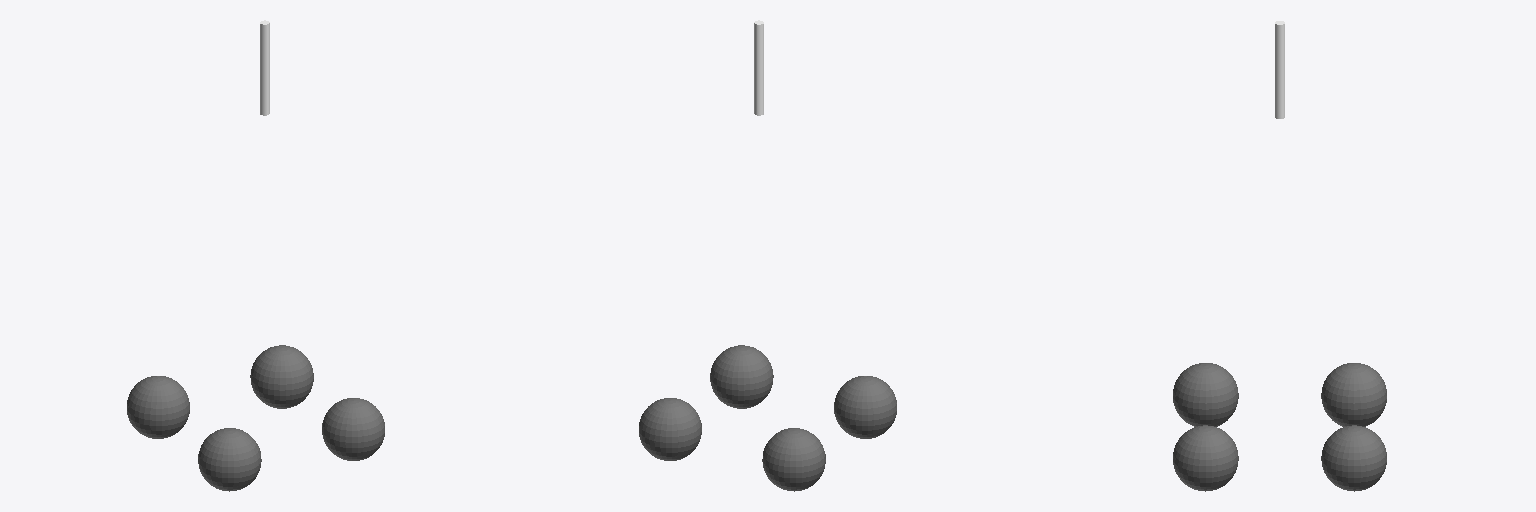
--- What the picture shows (computed from the rendered views, not written in the file) ---
3 views of the same robot in one strip: view 1: azimuth 30°, elevation 25°; view 2: azimuth 150°, elevation 25°; view 3: azimuth 270°, elevation 25° (orthographic).
Robot: summit_xl_apc — 25 links, 24 joints (7 revolute, 8 continuous, 1 prismatic, 8 fixed); root link base_footprint_sim; default pose: all joints at 0.
Links seen in each view (by area): view 1: front_left_wheel, back_right_wheel, back_left_wheel, front_right_wheel, vaccum_pipe_link; view 2: front_right_wheel, back_left_wheel, back_right_wheel, front_left_wheel, vaccum_pipe_link; view 3: front_right_wheel, front_left_wheel, back_left_wheel, back_right_wheel, vaccum_pipe_link.
Boxes of the visible links, x1=… form: front_left_wheel: x1=250, y1=345, x2=313, y2=408; back_right_wheel: x1=198, y1=428, x2=261, y2=491; back_left_wheel: x1=127, y1=376, x2=189, y2=438; front_right_wheel: x1=322, y1=398, x2=384, y2=460; vaccum_pipe_link: x1=260, y1=20, x2=269, y2=115; front_right_wheel: x1=710, y1=345, x2=773, y2=408; back_left_wheel: x1=762, y1=428, x2=825, y2=491; back_right_wheel: x1=834, y1=376, x2=896, y2=438; front_left_wheel: x1=639, y1=398, x2=701, y2=460; vaccum_pipe_link: x1=754, y1=20, x2=763, y2=115; front_right_wheel: x1=1173, y1=425, x2=1238, y2=491; front_left_wheel: x1=1321, y1=425, x2=1386, y2=491; back_left_wheel: x1=1321, y1=363, x2=1386, y2=426; back_right_wheel: x1=1173, y1=363, x2=1238, y2=426; vaccum_pipe_link: x1=1275, y1=21, x2=1284, y2=118.
Size in the robot's own frame: 0.824 by 0.824 by 1.86 metres.
0 mesh visuals loaded from 11 distinct referenced files (none loaded); not drawn: 11 (reference not matched to a file when rendering).

robot.urdf — summit_xl_apc:
<?xml version="1.0" ?>
<!-- =================================================================================== -->
<!-- |    This document was autogenerated by xacro from x_wam.urdf.xacro               | -->
<!-- |    EDITING THIS FILE BY HAND IS NOT RECOMMENDED                                 | -->
<!-- =================================================================================== -->
<robot name="summit_xl_apc" xmlns:xacro="http://www.ros.org/wiki/xacro">
  <!-- Import all Gazebo-customization elements, including Gazebo colors -->
  <gazebo>
    <plugin filename="libgazebo_ros_control.so" name="ros_control">
      <robotNamespace>/summit_xl_apc</robotNamespace>
      <controlPeriod>0.001</controlPeriod>
      <robotSimType>gazebo_ros_control/DefaultRobotHWSim</robotSimType>
    </plugin>
  </gazebo>
  <gazebo reference="base_footprint_sim">
    <material>Gazebo/Green</material>
  </gazebo>
  <gazebo reference="base_link">
    <material>Gazebo/Red</material>
    <gravity>true</gravity>
  </gazebo>
  <gazebo reference="front_right_steer_link">
    <material>Gazebo/Grey</material>
    <gravity>true</gravity>
  </gazebo>
  <gazebo reference="front_right_wheel">
    <mu1 value="4.0"/>
    <!-- 2.0 100.0 -->
    <mu2 value="1.0"/>
    <!-- 0.5 100.0 -->
    <fdir1 value="1 0 0"/>
    <material>Gazebo/Grey</material>
    <gravity>true</gravity>
  </gazebo>
  <gazebo reference="front_left_steer_link">
    <material>Gazebo/Grey</material>
    <gravity>true</gravity>
  </gazebo>
  <gazebo reference="front_left_wheel">
    <mu1 value="4.0"/>
    <!-- 2.0 -->
    <mu2 value="1.0"/>
    <!-- 0.5 -->
    <fdir1 value="1 0 0"/>
    <material>Gazebo/Grey</material>
    <gravity>true</gravity>
  </gazebo>
  <gazebo reference="back_left_steer_link">
    <material>Gazebo/Grey</material>
    <gravity>true</gravity>
  </gazebo>
  <gazebo reference="back_left_wheel">
    <mu1 value="4.0"/>
    <mu2 value="1.0"/>
    <fdir1 value="1 0 0"/>
    <material>Gazebo/Grey</material>
    <gravity>true</gravity>
  </gazebo>
  <gazebo reference="back_right_steer_link">
    <material>Gazebo/Grey</material>
    <gravity>true</gravity>
  </gazebo>
  <gazebo reference="back_right_wheel">
    <mu1 value="4.0"/>
    <mu2 value="1.0"/>
    <fdir1 value="1 0 0"/>
    <material>Gazebo/Grey</material>
    <gravity>true</gravity>
  </gazebo>
  <gazebo reference="hokuyo_laser_box_link">
    <material>Gazebo/Grey</material>
    <gravity>true</gravity>
  </gazebo>
  <gazebo reference="rover_link">
    <material>Gazebo/Red</material>
    <gravity>true</gravity>
  </gazebo>
  <gazebo reference="x_camera_link">
    <mu1>0.2</mu1>
    <mu2>0.2</mu2>
    <material>Gazebo/Red</material>
    <sensor name="camera1" type="camera">
      <update_rate>30.0</update_rate>
      <camera name="head">
        <horizontal_fov>1.3962634</horizontal_fov>
        <image>
          <width>800</width>
          <height>800</height>
          <format>R8G8B8</format>
        </image>
        <clip>
          <near>0.02</near>
          <far>300</far>
        </clip>
        <noise>
          <type>gaussian</type>
          <mean>0.0</mean>
          <stddev>0.007</stddev>
        </noise>
      </camera>
      <plugin filename="libgazebo_ros_camera.so" name="camera_controller">
        <alwaysOn>true</alwaysOn>
        <updateRate>0.0</updateRate>
        <cameraName>/summit_xl_apc/camera1</cameraName>
        <imageTopicName>image_raw</imageTopicName>
        <cameraInfoTopicName>camera_info</cameraInfoTopicName>
        <frameName>x_camera_link</frameName>
        <hackBaseline>0.07</hackBaseline>
        <distortionK1>0.0</distortionK1>
        <distortionK2>0.0</distortionK2>
        <distortionK3>0.0</distortionK3>
        <distortionT1>0.0</distortionT1>
        <distortionT2>0.0</distortionT2>
      </plugin>
    </sensor>
  </gazebo>
  <gazebo reference="hokuyo_laser_link">
    <sensor name="head_hokuyo_sensor" type="ray">
      <pose>0 0 0 0 0 0</pose>
      <visualize>false</visualize>
      <update_rate>30</update_rate>
      <ray>
        <scan>
          <horizontal>
            <samples>720</samples>
            <resolution>1</resolution>
            <min_angle>-1.570796</min_angle>
            <max_angle>1.570796</max_angle>
          </horizontal>
        </scan>
        <range>
          <min>0.10</min>
          <max>30.0</max>
          <resolution>0.01</resolution>
        </range>
        <noise>
          <type>gaussian</type>
          <mean>0.0</mean>
          <stddev>0.01</stddev>
        </noise>
      </ray>
      <plugin filename="libgazebo_ros_laser.so" name="gazebo_ros_head_hokuyo_controller">
        <topicName>/scan</topicName>
        <frameName>hokuyo_laser_link</frameName>
      </plugin>
    </sensor>
  </gazebo>
  <gazebo>
    <plugin filename="libgazebo_ros_imu.so" name="ros_imu">
      <robotNamespace>/summit_xl_apc</robotNamespace>
      <topicName>imu_data</topicName>
      <bodyName>imu_link </bodyName>
      <serviceName>/imu_service</serviceName>
      <gaussianNoise>0.001</gaussianNoise>
    </plugin>
  </gazebo>
  <gazebo reference="wam_link1">
    <material>Gazebo/White</material>
    <!-- selfCollide>true</selfCollide -->
    <gravity>true</gravity>
  </gazebo>
  <gazebo reference="wam_link2">
    <material>Gazebo/Grey</material>
    <!-- selfCollide>true</selfCollide -->
    <gravity>true</gravity>
  </gazebo>
  <gazebo reference="wam_link3">
    <material>Gazebo/Grey</material>
    <!-- selfCollide>true</selfCollide -->
    <gravity>true</gravity>
  </gazebo>
  <gazebo reference="wam_link4">
    <material>Gazebo/Grey</material>
    <!-- selfCollide>true</selfCollide -->
    <gravity>true</gravity>
  </gazebo>
  <gazebo reference="wam_link5">
    <material>Gazebo/Grey</material>
    <!-- selfCollide>true</selfCollide -->
    <gravity>true</gravity>
  </gazebo>
  <gazebo reference="wam_link6">
    <material>Gazebo/Grey</material>
    <!-- selfCollide>true</selfCollide -->
    <gravity>true</gravity>
  </gazebo>
  <gazebo reference="wam_link7">
    <material>Gazebo/Grey</material>
    <!-- selfCollide>true</selfCollide -->
    <gravity>true</gravity>
  </gazebo>
  <!-- Constants for robot dimensions -->
  <!-- xacro:property name="wheel_offset_x" value="0.261" / -->
  <!-- x,y,z in base_footprint CS -->
  <!-- x,y,z in base_footprint CS -->
  <!-- WAM Parameters -->
  <!-- Used for fixing robot to Gazebo 'base_link' -->
  <!-- link name="world"/>

  <joint name="fwf" type="planar">
    <parent link="world"/>
    <child link="base_footprint"/>
  </joint -->
  <!-- BASE FOOTPRINT -->
  <!-- base_footprint is a fictitious link(frame) that is on the ground right below base_link origin,
             navigation stack depends on this frame -->
  <link name="base_footprint_sim">
    <!-- inertial>
          <mass value="0.0001" />
          <origin xyz="0 0 0" />
          <inertia ixx="0.0001" ixy="0.0" ixz="0.0"
                         iyy="0.0001" iyz="0.0" 
                         izz="0.0001" />
      </inertial -->
    <visual>
      <origin rpy="0 0 0" xyz="0 0 0"/>
      <geometry>
        <box size="0.001 0.001 0.001"/>
      </geometry>
    </visual>
    <collision>
      <origin rpy="0 0 0" xyz="0 0 0"/>
      <geometry>
        <box size="0.001 0.001 0.001"/>
      </geometry>
    </collision>
  </link>
  <joint name="base_footprint_joint" type="fixed">
    <!--NB: While you would think this would make it go up, it is oddly reversed.
      This moves the joint to 0,0,0 where we want it for rviz, etc. -->
    <!-- origin xyz="0 0 0.075" rpy="0 0 0" / -->
    <origin rpy="0 0 0" xyz="0 0 0.150"/>
    <parent link="base_footprint_sim"/>
    <child link="base_link"/>
  </joint>
  <!-- BASE_LINK (RED) -->
  <link name="base_link">
    <!-- inertial>
      <mass value="20.0" />
      <origin xyz="0 0 0" />
      <inertia  ixx="0.2185" ixy="0.0"  ixz="-0.001"  iyy="0.33677"  iyz="0.0"  izz="0.20511" />
    </inertial -->
    <inertial>
      <mass value="40.0"/>
      <origin xyz="0 0 0"/>
      <inertia ixx="1.0" ixy="0.0" ixz="0.0" iyy="1.0" iyz="0.0" izz="1.0"/>
    </inertial>
    <visual>
      <origin rpy="0 0 0" xyz="0 0 0"/>
      <geometry>
        <mesh filename="package://summit_xl_description/meshes/x_wam/chassis_xwam_down.dae"/>
      </geometry>
    </visual>
    <collision>
      <origin rpy="0 0 0 " xyz="0 0 0"/>
      <geometry>
        <mesh filename="package://summit_xl_description/meshes/x_wam/chassis_xwam_down.dae"/>
      </geometry>
    </collision>
  </link>
  <!-- **************************** -->
  <!-- WHEEL 1                      -->
  <!-- FRONT RIGHT WHEEL - STEERING -->
  <!-- **************************** -->
  <link name="front_right_steer_link">
    <inertial>
      <mass value="0.1"/>
      <origin xyz="0 0 0"/>
      <inertia ixx="0.01" ixy="0.0" ixz="0.0" iyy="0.01" iyz="0.0" izz="0.01"/>
    </inertial>
    <visual>
      <!-- visual origin is defined w.r.t. link local coordinate system -->
      <origin rpy="0 0 0" xyz="0 0 0"/>
      <geometry>
        <cylinder length="0.025" radius="0.015"/>
      </geometry>
    </visual>
    <collision>
      <origin rpy="0 0 0" xyz="0 0 0"/>
      <geometry>
        <cylinder length="0.025" radius="0.015"/>
      </geometry>
    </collision>
  </link>
  <joint name="joint_front_right_steer" type="continuous">
    <!-- revolute -->
    <parent link="base_link"/>
    <child link="front_right_steer_link"/>
    <origin rpy="0 0 0" xyz="0.285 -0.285 -0.069"/>
    <axis rpy="0 0 0" xyz="0 0 1"/>
    <limit effort="5.0" velocity="5.0"/>
    <!-- lower="-1.570796327" upper="1.570796327"/ -->
    <joint_properties damping="2.0" friction="{steer_joint_friction}"/>
  </joint>
  <transmission name="joint_frw_steer_trans">
    <type>transmission_interface/SimpleTransmission</type>
    <joint name="joint_front_right_steer"/>
    <actuator name="joint_frw_steer_motor">
      <hardwareInterface>EffortJointInterface</hardwareInterface>
      <mechanicalReduction>100.0</mechanicalReduction>
      <motorTorqueConstant>1</motorTorqueConstant>
    </actuator>
  </transmission>
  <!-- **************************** -->
  <!-- WHEEL 1                      -->
  <!-- FRONT RIGHT WHEEL - TRACTION -->
  <!-- **************************** -->
  <link name="front_right_wheel">
    <inertial>
      <mass value="1.250"/>
      <origin xyz="0 0 0"/>
      <inertia ixx="0.0109375" ixy="0.0" ixz="0.0" iyy="0.021125" iyz="0.0" izz="0.0109375"/>
    </inertial>
    <visual>
      <origin rpy="0 0 0" xyz="0 0 0"/>
      <geometry>
        <!-- mesh filename="package://summit_xl_description/meshes/summit_xl_wheel.dae" scale="1.0 1.0 1.0"/ -->
        <sphere radius="0.127"/>
      </geometry>
      <material name="grey">
        <color rgba="0.5 0.5 0.5 1"/>
      </material>
    </visual>
    <collision>
      <origin rpy="0 0 0" xyz="0 0 0"/>
      <geometry>
        <!-- mesh filename="package://summit_xl_description/meshes/summit_xl_wheel.dae" scale="1.0 1.0 1.0"/ -->
        <sphere radius="0.127"/>
      </geometry>
    </collision>
  </link>
  <joint name="joint_front_right_wheel" type="continuous">
    <parent link="front_right_steer_link"/>
    <child link="front_right_wheel"/>
    <origin rpy="0 0 0" xyz="0 0 0"/>
    <axis xyz="0 -1 0"/>
    <limit effort="100.0" velocity="0.1"/>
    <joint_properties damping="1.0" friction="{wheel_joint_friction}"/>
  </joint>
  <transmission name="joint_frw_trans">
    <type>transmission_interface/SimpleTransmission</type>
    <joint name="joint_front_right_wheel"/>
    <actuator name="joint_frw_motor">
      <hardwareInterface>EffortJointInterface</hardwareInterface>
      <mechanicalReduction>15.0</mechanicalReduction>
      <motorTorqueConstant>1</motorTorqueConstant>
    </actuator>
  </transmission>
  <!-- **************************** -->
  <!-- WHEEL 2                      -->
  <!-- FRONT LEFT WHEEL  - STEERING -->
  <!-- **************************** -->
  <link name="front_left_steer_link">
    <inertial>
      <mass value="0.1"/>
      <origin xyz="0 0 0"/>
      <inertia ixx="0.01" ixy="0.0" ixz="0.0" iyy="0.01" iyz="0.0" izz="0.01"/>
    </inertial>
    <visual>
      <!-- visual origin is defined w.r.t. link local coordinate system -->
      <origin rpy="0 0 0" xyz="0 0 0"/>
      <geometry>
        <cylinder length="0.025" radius="0.015"/>
      </geometry>
    </visual>
    <collision>
      <origin rpy="0 0 0" xyz="0 0 0"/>
      <geometry>
        <cylinder length="0.025" radius="0.015"/>
      </geometry>
    </collision>
  </link>
  <joint name="joint_front_left_steer" type="continuous">
    <parent link="base_link"/>
    <child link="front_left_steer_link"/>
    <origin rpy="0 0 0" xyz="0.285 0.285 -0.069"/>
    <axis rpy="0 0 0" xyz="0 0 1"/>
    <limit effort="5.0" velocity="5.0"/>
    <!-- lower="-1.570796327" upper="1.570796327"/ -->
    <joint_properties damping="2.0" friction="{steer_joint_friction}"/>
  </joint>
  <transmission name="joint_flw_steer_trans">
    <type>transmission_interface/SimpleTransmission</type>
    <joint name="joint_front_left_steer"/>
    <actuator name="joint_flw_steer_motor">
      <hardwareInterface>EffortJointInterface</hardwareInterface>
      <mechanicalReduction>100.0</mechanicalReduction>
      <motorTorqueConstant>1</motorTorqueConstant>
    </actuator>
  </transmission>
  <!-- **************************** -->
  <!-- WHEEL 2                      -->
  <!-- FRONT LEFT WHEEL  - TRACTION -->
  <!-- **************************** -->
  <link name="front_left_wheel">
    <inertial>
      <mass value="1.250"/>
      <origin xyz="0 0 0"/>
      <inertia ixx="0.0109375" ixy="0.0" ixz="0.0" iyy="0.021125" iyz="0.0" izz="0.0109375"/>
    </inertial>
    <visual>
      <origin rpy="0 0 0" xyz="0 0 0"/>
      <geometry>
        <!-- mesh filename="package://summit_xl_description/meshes/summit_xl_wheel.dae" scale="1.0 1.0 1.0"/ -->
        <sphere radius="0.127"/>
      </geometry>
      <material name="grey">
        <color rgba="0.5 0.5 0.5 1"/>
      </material>
    </visual>
    <collision>
      <origin rpy="0 0 0" xyz="0 0 0"/>
      <geometry>
        <!-- mesh filename="package://summit_xl_description/meshes/summit_xl_wheel.dae" scale="1.0 1.0 1.0"/ -->
        <sphere radius="0.127"/>
      </geometry>
    </collision>
  </link>
  <joint name="joint_front_left_wheel" type="continuous">
    <parent link="front_left_steer_link"/>
    <child link="front_left_wheel"/>
    <origin rpy="0 0 0" xyz="0 0 0"/>
    <axis rpy="0 0 0" xyz="0 1 0"/>
    <limit effort="100.0" velocity="0.1"/>
    <joint_properties damping="1.0" friction="{wheel_joint_friction}"/>
  </joint>
  <transmission name="joint_flw_trans">
    <type>transmission_interface/SimpleTransmission</type>
    <joint name="joint_front_left_wheel"/>
    <actuator name="joint_flw_motor">
      <hardwareInterface>EffortJointInterface</hardwareInterface>
      <mechanicalReduction>15.0</mechanicalReduction>
      <motorTorqueConstant>1</motorTorqueConstant>
    </actuator>
  </transmission>
  <!-- **************************** -->
  <!-- WHEEL 3                      -->
  <!-- BACK LEFT WHEEL  - STEERING -->
  <!-- **************************** -->
  <link name="back_left_steer_link">
    <inertial>
      <mass value="0.1"/>
      <origin xyz="0 0 0"/>
      <inertia ixx="0.01" ixy="0.0" ixz="0.0" iyy="0.01" iyz="0.0" izz="0.01"/>
    </inertial>
    <visual>
      <!-- visual origin is defined w.r.t. link local coordinate system -->
      <origin rpy="0 0 0" xyz="0 0 0"/>
      <geometry>
        <cylinder length="0.025" radius="0.015"/>
      </geometry>
    </visual>
    <collision>
      <origin rpy="0 0 0" xyz="0 0 0"/>
      <geometry>
        <cylinder length="0.025" radius="0.015"/>
      </geometry>
    </collision>
  </link>
  <joint name="joint_back_left_steer" type="continuous">
    <parent link="base_link"/>
    <child link="back_left_steer_link"/>
    <origin rpy="0 0 0" xyz="-0.285 0.285 -0.069"/>
    <axis rpy="0 0 0" xyz="0 0 1"/>
    <limit effort="5.0" velocity="5.0"/>
    <!-- lower="-1.570796327" upper="1.570796327"/ -->
    <joint_properties damping="2.0" friction="{steer_joint_friction}"/>
  </joint>
  <transmission name="joint_blw_steer_trans">
    <type>transmission_interface/SimpleTransmission</type>
    <joint name="joint_back_left_steer"/>
    <actuator name="joint_blw_steer_motor">
      <hardwareInterface>EffortJointInterface</hardwareInterface>
      <mechanicalReduction>100.0</mechanicalReduction>
      <motorTorqueConstant>1</motorTorqueConstant>
    </actuator>
  </transmission>
  <!-- **************************** -->
  <!-- WHEEL 3                      -->
  <!-- BACK LEFT WHEEL  - TRACTION  -->
  <!-- **************************** -->
  <link name="back_left_wheel">
    <inertial>
      <mass value="1.250"/>
      <origin xyz="0 0 0"/>
      <inertia ixx="0.0109375" ixy="0.0" ixz="0.0" iyy="0.021125" iyz="0.0" izz="0.0109375"/>
    </inertial>
    <visual>
      <origin rpy="0 0 0" xyz="0 0 0"/>
      <geometry>
        <sphere radius="0.127"/>
        <!-- mesh filename="package://summit_xl_description/meshes/summit_xl_wheel.dae" scale="1.0 1.0 1.0"/ -->
      </geometry>
      <material name="grey">
        <color rgba="0.5 0.5 0.5 1"/>
      </material>
    </visual>
    <collision>
      <origin rpy="0 0 0" xyz="0 0 0"/>
      <geometry>
        <sphere radius="0.127"/>
        <!-- mesh filename="package://summit_xl_description/meshes/summit_xl_wheel.dae" scale="1.0 1.0 1.0"/ -->
      </geometry>
    </collision>
  </link>
  <joint name="joint_back_left_wheel" type="continuous">
    <parent link="back_left_steer_link"/>
    <child link="back_left_wheel"/>
    <origin rpy="0 0 0" xyz="0 0 0"/>
    <axis rpy="0 0 0" xyz="0 1 0"/>
    <limit effort="100.0" velocity="0.1"/>
    <joint_properties damping="1.0" friction="{wheel_joint_friction}"/>
  </joint>
  <transmission name="joint_blw_trans">
    <type>transmission_interface/SimpleTransmission</type>
    <joint name="joint_back_left_wheel"/>
    <actuator name="joint_blw_motor">
      <hardwareInterface>EffortJointInterface</hardwareInterface>
      <mechanicalReduction>15.0</mechanicalReduction>
      <motorTorqueConstant>1</motorTorqueConstant>
    </actuator>
  </transmission>
  <!-- **************************** -->
  <!-- WHEEL 4                      -->
  <!-- BACK RIGHT WHEEL  - STEERING -->
  <!-- **************************** -->
  <link name="back_right_steer_link">
    <inertial>
      <mass value="0.1"/>
      <origin xyz="0 0 0"/>
      <inertia ixx="0.01" ixy="0.0" ixz="0.0" iyy="0.01" iyz="0.0" izz="0.01"/>
    </inertial>
    <visual>
      <!-- visual origin is defined w.r.t. link local coordinate system -->
      <origin rpy="0 0 0" xyz="0 0 0"/>
      <geometry>
        <cylinder length="0.025" radius="0.015"/>
      </geometry>
    </visual>
    <collision>
      <origin rpy="0 0 0" xyz="0 0 0"/>
      <geometry>
        <cylinder length="0.025" radius="0.015"/>
      </geometry>
    </collision>
  </link>
  <joint name="joint_back_right_steer" type="continuous">
    <parent link="base_link"/>
    <child link="back_right_steer_link"/>
    <origin rpy="0 0 0" xyz="-0.285 -0.285 -0.069"/>
    <axis rpy="0 0 0" xyz="0 0 1"/>
    <limit effort="5.0" velocity="5.0"/>
    <!-- lower="-1.570796327" upper="1.570796327"/ -->
    <joint_properties damping="2.0" friction="{steer_joint_friction}"/>
  </joint>
  <transmission name="joint_brw_steer_trans">
    <type>transmission_interface/SimpleTransmission</type>
    <joint name="joint_back_right_steer"/>
    <actuator name="joint_brw_steer_motor">
      <hardwareInterface>EffortJointInterface</hardwareInterface>
      <mechanicalReduction>100.0</mechanicalReduction>
      <motorTorqueConstant>1</motorTorqueConstant>
    </actuator>
  </transmission>
  <!-- **************************** -->
  <!-- WHEEL 4                      -->
  <!-- BACK RIGHT WHEEL  - TRACTION -->
  <!-- **************************** -->
  <link name="back_right_wheel">
    <inertial>
      <mass value="1.250"/>
      <origin xyz="0 0 0"/>
      <inertia ixx="0.0109375" ixy="0.0" ixz="0.0" iyy="0.021125" iyz="0.0" izz="0.0109375"/>
    </inertial>
    <visual>
      <origin rpy="0 0 0" xyz="0 0 0"/>
      <geometry>
        <sphere radius="0.127"/>
        <!-- mesh filename="package://summit_xl_description/meshes/summit_xl_wheel.dae" scale="1.0 1.0 1.0"/ -->
      </geometry>
      <material name="grey">
        <color rgba="0.5 0.5 0.5 1"/>
      </material>
    </visual>
    <collision>
      <origin rpy="0 0 0" xyz="0 0 0"/>
      <geometry>
        <sphere radius="0.127"/>
        <!-- mesh filename="package://summit_xl_description/meshes/summit_xl_wheel.dae" scale="1.0 1.0 1.0"/ -->
      </geometry>
    </collision>
  </link>
  <joint name="joint_back_right_wheel" type="continuous">
    <parent link="back_right_steer_link"/>
    <child link="back_right_wheel"/>
    <origin rpy="0 0 0" xyz="0 0 0"/>
    <axis xyz="0 -1 0"/>
    <limit effort="100.0" velocity="0.1"/>
    <joint_properties damping="1.0" friction="{wheel_joint_friction}"/>
  </joint>
  <transmission name="joint_brw_trans">
    <type>transmission_interface/SimpleTransmission</type>
    <joint name="joint_back_right_wheel"/>
    <actuator name="joint_brw_motor">
      <hardwareInterface>EffortJointInterface</hardwareInterface>
      <mechanicalReduction>15.0</mechanicalReduction>
      <motorTorqueConstant>1</motorTorqueConstant>
    </actuator>
  </transmission>
  <!-- IMU SENSOR -->
  <joint name="imu_joint" type="fixed">
    <axis xyz="1 0 0"/>
    <!-- 0 1 0 -->
    <origin xyz="0 0 0.2825"/>
    <parent link="base_link"/>
    <child link="imu_link"/>
  </joint>
  <link name="imu_link">
    <inertial>
      <mass value="0.001"/>
      <origin rpy="0 0 0" xyz="0 0 0"/>
      <inertia ixx="0.0001" ixy="0" ixz="0" iyy="0.000001" iyz="0" izz="0.0001"/>
    </inertial>
    <visual>
      <origin rpy="0 0 0" xyz="0 0 0"/>
      <geometry>
        <box size="0.001 0.001 0.001"/>
      </geometry>
    </visual>
    <collision>
      <origin rpy="0 0 0" xyz="0 0 0"/>
      <geometry>
        <box size=".001 .001 .001"/>
      </geometry>
    </collision>
  </link>
  <!-- ***************************** -->
  <!-- SCISSOR MECHANISM PART 1      -->
  <!-- ***************************** -->
  <!-- link name="scissor_bars1_link">
    <inertial>
      <mass value="6.0" />
      <origin xyz="0 0 0" />
      <inertia  ixx="0.2185" ixy="0.0"  ixz="-0.001"  iyy="0.33677"  iyz="0.0"  izz="0.20511" />
    </inertial>
    <visual>
       <origin xyz="0 0 0" rpy="0 0 0" />
       <geometry>
	   <mesh filename="package://summit_xl_description/meshes/x_wam/scissor_bars_1.dae"/>
       </geometry>
    </visual>
    <collision>
       <origin xyz="0 0 0" rpy="0 0 0 " />
       <geometry>
       <mesh filename="package://summit_xl_description/meshes/x_wam/scissor_bars_1.dae"/>
       </geometry>
    </collision>     
  </link>

  <joint name="scissor_bars1_joint" type="continuous">
    <parent link="base_link"/>
    <child link="scissor_bars1_link"/>
    <origin xyz="0.261 0.0 -0.038" rpy="0.0 -3.1416 0.0" />
    <axis xyz="0 1 0" />
    <limit effort="300" velocity="1"/ -->
  <!-- lower="-3.1416" upper="-2.28"/ -->
  <!-- dynamics damping="1.0" friction="0.1"/>
  </joint -->
  <!-- mimic joint="scissor_prismatic_joint" multiplier="1.72" offset="-3.14" / -->
  <!-- ***************************** -->
  <!-- ROVER PART - UP SCISSOR MECH  -->
  <!-- ***************************** -->
  <link name="rover_link">
    <inertial>
      <mass value="20.0"/>
      <origin xyz="0 0 0"/>
      <inertia ixx="0.2185" ixy="0.0" ixz="-0.001" iyy="0.33677" iyz="0.0" izz="0.20511"/>
    </inertial>
    <visual>
      <origin rpy="0 0 0" xyz="0 0 0"/>
      <geometry>
        <mesh filename="package://summit_xl_description/meshes/x_wam/chassis_xwam_up.dae"/>
      </geometry>
    </visual>
    <collision>
      <origin rpy="0 0 0 " xyz="0 0 0"/>
      <geometry>
        <mesh filename="package://summit_xl_description/meshes/x_wam/chassis_xwam_up.dae"/>
      </geometry>
    </collision>
  </link>
  <joint name="scissor_prismatic_joint" type="prismatic">
    <parent link="base_link"/>
    <child link="rover_link"/>
    <limit effort="1000.0" lower="0.0" upper="0.3500" velocity="0.25"/>
    <origin rpy="0 0 0" xyz="0.261 0 -0.038"/>
    <axis xyz="0 0 1"/>
  </joint>
  <transmission name="joint_scissor_trans">
    <type>transmission_interface/SimpleTransmission</type>
    <joint name="scissor_prismatic_joint"/>
    <actuator name="scissor_motor">
      <hardwareInterface>EffortJointInterface</hardwareInterface>
      <mechanicalReduction>100.0</mechanicalReduction>
    </actuator>
  </transmission>
  <!-- ******************************************** -->
  <!-- HOKUYO SENSOR - ATTACHED TO ROVER PART - UP  -->
  <!-- ******************************************** -->
  <joint name="hokuyo_laser_joint" type="fixed">
    <axis xyz="0 1 0"/>
    <origin rpy="3.1416 0.0 0.0" xyz="0.075 0 0.02"/>
    <parent link="rover_link"/>
    <child link="hokuyo_laser_link"/>
  </joint>
  <link name="hokuyo_laser_link" type="laser">
    <inertial>
      <mass value="0.001"/>
      <origin rpy="0 0 0" xyz="0 0 0"/>
      <inertia ixx="0.0001" ixy="0" ixz="0" iyy="0.000001" iyz="0" izz="0.0001"/>
    </inertial>
  </link>
  <!-- This adds a visual box to allow us to see the Hokuyo in rviz/gazebo -->
  <joint name="hokuyo_laser_box_joint" type="fixed">
    <origin rpy="0 0 0" xyz="0 0 0"/>
    <parent link="hokuyo_laser_link"/>
    <child link="hokuyo_laser_box_link"/>
  </joint>
  <link name="hokuyo_laser_box_link">
    <inertial>
      <mass value="0.01"/>
      <origin xyz="0 0 0"/>
      <inertia ixx="0.001" ixy="0.0" ixz="0.0" iyy="0.001" iyz="0.0" izz="0.001"/>
    </inertial>
    <visual>
      <origin rpy="0 0 0" xyz="0 0 0"/>
      <geometry>
        <!--box size="0.05 0.05 0.1" /-->
        <mesh filename="package://summit_xl_description/meshes/hokuyo-utm30-lx.dae" scale="1.0 1.0 1.0"/>
      </geometry>
    </visual>
    <collision>
      <origin rpy="0 0 0" xyz="0 0 0"/>
      <geometry>
        <box size="0.05 0.05 0.1"/>
      </geometry>
    </collision>
  </link>
  <!-- ***************************** -->
  <!-- SCISSOR MECHANISM PART 2      -->
  <!-- ***************************** -->
  <!-- link name="scissor_bars2_link">
    <inertial>
      <mass value="3.0" />
      <origin xyz="0 0 0" />
      <inertia  ixx="0.2185" ixy="0.0"  ixz="-0.001"  iyy="0.33677"  iyz="0.0"  izz="0.20511" />
    </inertial>
    <visual>
       <origin xyz="0 0 0" rpy="0 0 0" />
       <geometry>
	   <mesh filename="package://summit_xl_description/meshes/x_wam/scissor_bars_2.dae"/>
       </geometry>
    </visual>
    <collision>
       <origin xyz="0 0 0" rpy="0 0 0 " />
       <geometry>
       <mesh filename="package://summit_xl_description/meshes/x_wam/scissor_bars_2.dae"/>
       </geometry>
    </collision>     
  </link>
  <joint name="scissor_bars2_joint" type="continuous">
    <parent link="rover_link"/>
    <child link="scissor_bars2_link"/>
    <origin xyz="0.0 0 0" rpy="0 0 0" />
    <axis xyz="0 1 0" />
    <limit effort="300" velocity="1"/ -->
  <!-- lower="-0.86" upper="0.0" / -->
  <!-- dynamics damping="0.1" friction="0.1"/>
  </joint>
  <transmission name="scissor_bars2_trans">
	 <type>transmission_interface/SimpleTransmission</type>
     <joint name="scissor_bars2_joint" />
     <actuator name="scissor_bars2_motor">
		<hardwareInterface>EffortJointInterface</hardwareInterface>
		<mechanicalReduction>0.001</mechanicalReduction>
        <motorTorqueConstant>0.001</motorTorqueConstant>
	 </actuator>
  </transmission -->
  <!-- AXIS PTZ CAMERA -->
  <joint name="camera_joint" type="fixed">
    <axis xyz="0 1 0"/>
    <!-- FRONT MOUNT -->
    <origin xyz="0.3 0.0 0.25"/>
    <parent link="base_link"/>
    <child link="x_camera_link"/>
  </joint>
  <link name="x_camera_link">
    <inertial>
      <mass value="0.001"/>
      <origin rpy="0 0 0" xyz="0 0 0"/>
      <inertia ixx="0.0001" ixy="0" ixz="0" iyy="0.000001" iyz="0" izz="0.0001"/>
    </inertial>
  </link>
  <!-- Import Barrett WAM robot xacro file description -->
  <!-- xacro:include filename="$(find wam_description)/urdf/wam_arm.urdf.xacro" / -->
  <gazebo>
    <plugin filename="libgazebo_ros_control.so" name="ros_control">
      <robotNamespace>/wam</robotNamespace>
      <controlPeriod>0.001</controlPeriod>
      <robotSimType>gazebo_ros_control/DefaultRobotHWSim</robotSimType>
    </plugin>
  </gazebo>
  <gazebo reference="wam_link1">
    <material>Gazebo/White</material>
    <gravity>true</gravity>
  </gazebo>
  <gazebo reference="wam_link2">
    <material>Gazebo/Grey</material>
    <gravity>true</gravity>
  </gazebo>
  <gazebo reference="wam_link3">
    <material>Gazebo/Grey</material>
    <gravity>true</gravity>
  </gazebo>
  <gazebo reference="wam_link4">
    <material>Gazebo/Grey</material>
    <gravity>true</gravity>
  </gazebo>
  <gazebo reference="wam_link5">
    <material>Gazebo/Grey</material>
    <gravity>true</gravity>
  </gazebo>
  <gazebo reference="wam_link6">
    <material>Gazebo/Grey</material>
    <gravity>true</gravity>
  </gazebo>
  <gazebo reference="wam_link7">
    <material>Gazebo/Grey</material>
    <gravity>true</gravity>
  </gazebo>
  <link name="wam_base_link">
    <inertial>
      <mass value="5.0"/>
      <origin xyz="0 0 0"/>
      <inertia ixx="5.0" ixy="0.0" ixz="0.0" iyy="5.0" iyz="0.0" izz="5.0"/>
    </inertial>
    <visual>
      <origin rpy="0 0 0" xyz="0 0 0"/>
      <geometry>
        <mesh filename="package://wam_description/meshes/wambase.dae"/>
      </geometry>
    </visual>
    <collision>
      <origin rpy="0 0 0 " xyz="0 0 0"/>
      <geometry>
        <mesh filename="package://wam_description/meshes/wambase.dae"/>
      </geometry>
    </collision>
  </link>
  <link name="wam_link1">
    <inertial>
      <mass value="2.3936"/>
      <origin rpy="0 0 0" xyz="0.0 0.0 0.0"/>
      <inertia ixx="1.0" ixy="0.0" ixz="0.0" iyy="1.0" iyz="0.0" izz="1.0"/>
    </inertial>
    <visual>
      <origin rpy="0 0 0" xyz="0.0 0.0 0.0"/>
      <geometry name="wam_link1_visual">
        <mesh filename="package://wam_description/meshes/wam1.dae" scale="1.0 1.0 1.0"/>
      </geometry>
      <material name="Grey">
        <color rgba="0.75 0.75 0.75 1.0"/>
      </material>
    </visual>
    <collision>
      <origin rpy="0 0 0" xyz="0.0 0.0 0.0"/>
      <geometry name="wam_link1_collision">
        <mesh filename="package://wam_description/meshes/wam1.dae" scale="1.0 1.0 1.0"/>
      </geometry>
      <contact_coefficients kd="1.0" kp="1000.0" mu="0"/>
    </collision>
  </link>
  <joint name="j1_joint" type="revolute">
    <parent link="wam_base_link"/>
    <child link="wam_link1"/>
    <!-- origin xyz="0.125 0 0.55" rpy="0 0 0" / -->
    <origin rpy="0 0 0" xyz="0.0 0 0.0"/>
    <axis xyz="0 0 1"/>
    <limit effort="30.0" lower="-2.6" upper="2.6" velocity="2.0"/>
    <dynamics damping="100.0" friction="1.0"/>
  </joint>
  <transmission name="j1_transmission">
    <type>transmission_interface/SimpleTransmission</type>
    <joint name="j1_joint"/>
    <actuator name="j1">
      <hardwareInterface>EffortJointInterface</hardwareInterface>
      <mechanicalReduction>1</mechanicalReduction>
      <motorTorqueConstant>1</motorTorqueConstant>
    </actuator>
  </transmission>
  <link name="wam_link2">
    <inertial>
      <origin rpy="0 0 0" xyz="0 0 0"/>
      <mass value="1.8487"/>
      <inertia ixx="1.0" ixy="0.0" ixz="0.0" iyy="0.1" iyz="0.0" izz="0.1"/>
    </inertial>
    <visual>
      <origin rpy="0 0 0" xyz="0.0 0.0 0.0"/>
      <geometry name="wam_link2_visual">
        <mesh filename="package://wam_description/meshes/wam2.dae" scale="1.0 1.0 1.0"/>
      </geometry>
      <material name="Grey">
        <color rgba="0.75 0.75 0.75 1.0"/>
      </material>
    </visual>
    <collision>
      <origin rpy="0 0 0" xyz="0.0 0.0 0.0"/>
      <geometry name="wam_link2_collision">
        <mesh filename="package://wam_description/meshes/wam2.dae" scale="1.0 1.0 1.0"/>
      </geometry>
      <contact_coefficients kd="1.0" kp="1000.0" mu="0"/>
    </collision>
  </link>
  <joint name="j2_joint" type="revolute">
    <parent link="wam_link1"/>
    <child link="wam_link2"/>
    <origin rpy="0 0 0" xyz="0.0 0.0 0.0"/>
    <axis xyz="0 1 0"/>
    <limit effort="30.0" lower="-2.0" upper="2.0" velocity="2.0"/>
    <dynamics damping="100.0" friction="1.0"/>
  </joint>
  <transmission name="j2_transmission">
    <type>transmission_interface/SimpleTransmission</type>
    <joint name="j2_joint"/>
    <actuator name="j2">
      <hardwareInterface>EffortJointInterface</hardwareInterface>
      <mechanicalReduction>1</mechanicalReduction>
      <motorTorqueConstant>1</motorTorqueConstant>
    </actuator>
  </transmission>
  <link name="wam_link3">
    <inertial>
      <mass value="0.43"/>
      <origin rpy="0 0 0" xyz="0 0 0.225"/>
      <inertia ixx="1.0" ixy="0.0" ixz="0.0" iyy="0.1" iyz="0.0" izz="0.1"/>
    </inertial>
    <visual>
      <origin rpy="0 0 0" xyz="0.0 0.0 0.0"/>
      <geometry name="wam_link3_visual">
        <mesh filename="package://wam_description/meshes/wam3.dae" scale="1.0 1.0 1.0"/>
      </geometry>
      <material name="Grey">
        <color rgba="0.75 0.75 0.75 1.0"/>
      </material>
    </visual>
    <collision>
      <origin rpy="0 0 0" xyz="0.0 0.0 0.0"/>
      <geometry name="wam_link3_collision">
        <mesh filename="package://wam_description/meshes/wam3.dae" scale="1.0 1.0 1.0"/>
      </geometry>
      <contact_coefficients kd="1.0" kp="1000.0" mu="0"/>
    </collision>
  </link>
  <joint name="j3_joint" type="revolute">
    <parent link="wam_link2"/>
    <child link="wam_link3"/>
    <origin rpy="0 0 0" xyz="0.0 0.0 0.0"/>
    <axis xyz="0 0 1"/>
    <limit effort="30.0" lower="-2.8" upper="2.8" velocity="2.0"/>
    <dynamics damping="100.0" friction="1.0"/>
  </joint>
  <transmission name="j3_transmission">
    <type>transmission_interface/SimpleTransmission</type>
    <joint name="j3_joint"/>
    <actuator name="j3">
      <hardwareInterface>EffortJointInterface</hardwareInterface>
      <mechanicalReduction>1</mechanicalReduction>
      <motorTorqueConstant>1</motorTorqueConstant>
    </actuator>
  </transmission>
  <link name="wam_link4">
    <inertial>
      <mass value="0.52"/>
      <origin rpy="0 0 0" xyz="-0.045 -0.15 0"/>
      <inertia ixx="1.0" ixy="0.0" ixz="0.0" iyy="0.1" iyz="0.0" izz="0.1"/>
    </inertial>
    <visual>
      <origin rpy="0 0 0" xyz="0.0 0.0 0.0"/>
      <geometry name="wam_link4_visual">
        <mesh filename="package://wam_description/meshes/wam4.dae" scale="1.0 1.0 1.0"/>
      </geometry>
      <material name="Grey">
        <color rgba="0.75 0.75 0.75 1.0"/>
      </material>
    </visual>
    <collision>
      <origin rpy="0 0 0" xyz="0.0 0.0 0.0"/>
      <geometry name="wam_link4_collision">
        <mesh filename="package://wam_description/meshes/wam4.dae" scale="1.0 1.0 1.0"/>
      </geometry>
      <contact_coefficients kd="1.0" kp="1000.0" mu="0"/>
    </collision>
  </link>
  <joint name="j4_joint" type="revolute">
    <parent link="wam_link3"/>
    <child link="wam_link4"/>
    <origin rpy="-1.57079632679 0 0" xyz="0.045 0.0 0.55"/>
    <axis xyz="0 0 1"/>
    <limit effort="30.0" lower="-0.9" upper="3.1" velocity="2.0"/>
    <dynamics damping="100.0" friction="1.0"/>
  </joint>
  <transmission name="j4_transmission">
    <type>transmission_interface/SimpleTransmission</type>
    <joint name="j4_joint"/>
    <actuator name="j4">
      <hardwareInterface>EffortJointInterface</hardwareInterface>
      <mechanicalReduction>1</mechanicalReduction>
      <motorTorqueConstant>1</motorTorqueConstant>
    </actuator>
  </transmission>
  <link name="wam_link5">
    <inertial>
      <origin rpy="0 0 0" xyz="0 0 0"/>
      <mass value="0.076675"/>
      <inertia ixx="1.0" ixy="0.0" ixz="0.0" iyy="0.1" iyz="0.0" izz="0.1"/>
    </inertial>
    <visual>
      <origin rpy="0 0 0" xyz="0.0 0.0 0.0"/>
      <geometry name="wam_link5_visual">
        <mesh filename="package://wam_description/meshes/wam5.dae" scale="1.0 1.0 1.0"/>
      </geometry>
      <material name="Grey">
        <color rgba="0.75 0.75 0.75 1.0"/>
      </material>
    </visual>
    <collision>
      <origin rpy="0 0 0" xyz="0.0 0.0 0.0"/>
      <geometry name="wam_link5_collision">
        <mesh filename="package://wam_description/meshes/wam5.dae" scale="1.0 1.0 1.0"/>
      </geometry>
      <contact_coefficients kd="1.0" kp="1000.0" mu="0"/>
    </collision>
  </link>
  <joint name="j5_joint" type="revolute">
    <parent link="wam_link4"/>
    <child link="wam_link5"/>
    <origin rpy="1.57079632679 0 0" xyz="-0.045 -0.3 0.0"/>
    <axis xyz="0 0 1"/>
    <limit effort="30.0" lower="-4.8" upper="1.3" velocity="2.0"/>
    <dynamics damping="100.0" friction="1.0"/>
  </joint>
  <transmission name="j5_transmission">
    <type>transmission_interface/SimpleTransmission</type>
    <joint name="j5_joint"/>
    <actuator name="j5">
      <hardwareInterface>EffortJointInterface</hardwareInterface>
      <mechanicalReduction>1</mechanicalReduction>
      <motorTorqueConstant>1</motorTorqueConstant>
    </actuator>
  </transmission>
  <link name="wam_link6">
    <inertial>
      <origin rpy="0 0 0" xyz="0 0 0"/>
      <mass value="0.10695"/>
      <inertia ixx="1.0" ixy="0.0" ixz="0.0" iyy="0.1" iyz="0.0" izz="0.1"/>
    </inertial>
    <visual>
      <origin rpy="0 0 0" xyz="0.0 0.0 0.0"/>
      <geometry name="wam_link6_visual">
        <mesh filename="package://wam_description/meshes/wam6.dae" scale="1.0 1.0 1.0"/>
      </geometry>
      <material name="Grey">
        <color rgba="0.75 0.75 0.75 1.0"/>
      </material>
    </visual>
    <collision>
      <origin rpy="0 0 0" xyz="0.0 0.0 0.0"/>
      <geometry name="wam_link6_collision">
        <mesh filename="package://wam_description/meshes/wam6.dae" scale="1.0 1.0 1.0"/>
      </geometry>
      <contact_coefficients kd="1.0" kp="1000.0" mu="0"/>
    </collision>
  </link>
  <joint name="j6_joint" type="revolute">
    <parent link="wam_link5"/>
    <child link="wam_link6"/>
    <origin rpy="-1.57079632679 0 0" xyz="0.0 0.0 0.0"/>
    <axis xyz="0 0 1"/>
    <limit effort="30.0" lower="-1.6" upper="1.6" velocity="2.0"/>
    <dynamics damping="100.0" friction="1.0"/>
  </joint>
  <transmission name="j6_transmission">
    <type>transmission_interface/SimpleTransmission</type>
    <joint name="j6_joint"/>
    <actuator name="j6">
      <hardwareInterface>EffortJointInterface</hardwareInterface>
      <mechanicalReduction>1</mechanicalReduction>
      <motorTorqueConstant>1</motorTorqueConstant>
    </actuator>
  </transmission>
  <link name="wam_link7">
    <inertial>
      <origin rpy="0 0 0" xyz="0 0 0"/>
      <mass value="0.013925"/>
      <inertia ixx="1.0" ixy="0.0" ixz="0.0" iyy="0.1" iyz="0.0" izz="0.1"/>
    </inertial>
    <visual>
      <origin rpy="0 0 0" xyz="0.0 0.0 0.0"/>
      <geometry name="wam_link7_visual">
        <mesh filename="package://wam_description/meshes/wam7.dae" scale="1.0 1.0 1.0"/>
      </geometry>
      <material name="Grey">
        <color rgba="0.75 0.75 0.75 1.0"/>
      </material>
    </visual>
    <collision>
      <origin rpy="0 0 0" xyz="0.0 0.0 0.0"/>
      <geometry name="wam_link7_collision">
        <mesh filename="package://wam_description/meshes/wam7.dae" scale="1.0 1.0 1.0"/>
      </geometry>
      <contact_coefficients kd="1.0" kp="1000.0" mu="0"/>
    </collision>
  </link>
  <joint name="j7_joint" type="revolute">
    <parent link="wam_link6"/>
    <child link="wam_link7"/>
    <origin rpy="1.57079632679 0 0" xyz="0.0 0.0 0.0"/>
    <axis xyz="0 0 1"/>
    <limit effort="30.0" lower="-2.2" upper="2.2" velocity="2.0"/>
    <dynamics damping="100.0" friction="1.0"/>
  </joint>
  <transmission name="j7_transmission">
    <type>transmission_interface/SimpleTransmission</type>
    <joint name="j7_joint"/>
    <actuator name="j7">
      <hardwareInterface>EffortJointInterface</hardwareInterface>
      <mechanicalReduction>1</mechanicalReduction>
      <motorTorqueConstant>1</motorTorqueConstant>
    </actuator>
  </transmission>
  <!--link name="wam_tcp"/>
  <joint name="wamtcp_fix" type="fixed">
    <parent link="wam_link7"/>
    <child link="wam_tcp"/>
    <origin rpy="0 0 0" xyz="0.0 0.0 0.0"/>
  </joint-->
  <!--gazebo>
    <plugin filename="libgazebo_ros_control.so" name="ros_control">
      <robotNamespace>/bh</robotNamespace>
      <controlPeriod>0.001</controlPeriod>
      <robotSimType>gazebo_ros_control/DefaultRobotHWSim</robotSimType>
    </plugin>
  </gazebo-->
  <gazebo reference="base_link">
    <material>Gazebo/White</material>
    <gravity>true</gravity>
  </gazebo>
  <!--link name="bh_base_link">
    <inertial>
      <mass value="1.0"/>
      <origin xyz="0 0 0"/>
      <inertia ixx="1.0" ixy="0.0" ixz="0.0" iyy="1.0" iyz="0.0" izz="1.0"/>
    </inertial>
    <visual>
      <origin rpy="0 0 0" xyz="0 0 0"/>
      <geometry>
        <mesh filename="package://bh262_description/meshes/bhand/palm.dae"/>
      </geometry>
      <material name="Grey">
        <color rgba="0.75 0.75 0.75 1.0"/>
      </material>
    </visual>
    <collision>
      <origin rpy="0 0 0 " xyz="0 0 0"/>
      <geometry name="bh_palm_collision">
        <mesh filename="package://bh262_description/meshes/bhand/palm.dae"/>
      </geometry>
      <contact_coefficients kd="1.0" kp="1000.0" mu="0"/>
    </collision>
  </link>

  <joint name="base_footprint_bh_joint" type="fixed">
    <origin rpy="0 0 0" xyz="0.0 0.0 0.0"/>
    <parent link="wam_tcp"/>
    <child link="bh_base_link"/>
  </joint-->
  <joint name="base_footprint_wam_joint" type="fixed">
    <origin rpy="0 0 0" xyz="-0.220 0 0.410"/>
    <parent link="rover_link"/>
    <child link="wam_base_link"/>
  </joint>

  <!-- vaccum gripper pipe -->
  <link name="vaccum_pipe_link">
    <visual>
      <geometry>
        <cylinder length="0.40" radius="0.02"/>
      </geometry>
      <origin rpy="0 0 0" xyz="0 0 0.20"/>
      <material name="White">
        <color rgba="1.0 1.0 1.0 1.0"/>
      </material>
    </visual>
    <collision>
      <geometry>
        <cylinder length="0.40" radius="0.02"/>
      </geometry>
      <origin rpy="0 0 0" xyz="0 0 0.20"/>
    </collision>
    <inertial>
      <mass value="0.6"/>
      <inertia ixx="0.01" ixy="0.0" ixz="0.0" iyy="0.01" iyz="0.0" izz="0.01"/>
    </inertial>
  </link>
  <joint name="vaccum_pipe_joint" type="fixed">
    <origin rpy="0 0 0" xyz="0 0 0.04"/>
    <parent link="wam_link7"/>
    <child link="vaccum_pipe_link"/>
  </joint>
  <link name="suction_link"/>
  <joint name="suction_joint" type="fixed">
    <origin rpy="0 1.57 0" xyz="0.04 0 0.38"/>
    <parent link="vaccum_pipe_link"/>
    <child link="suction_link"/>
  </joint>
  

<!-- Rack description -->
  <!--joint name="rack_base_joint" type="fixed">
    <origin rpy="0 0 3.1415" xyz="1.0668 0 0"/> 
    <parent link="base_footprint"/>
    <child link="rack_base"/>
  </joint>
	
  <link name="rack_base">
    <visual>
      <origin rpy="1.57075 0 1.57075" xyz="0 0 0"/>
      <geometry>
        <mesh filename="package://kiva_pod_description/description/kiva_pod/meshes/pod_lowres.stl"/>
      </geometry>
    </visual>
  </link-->

</robot>
